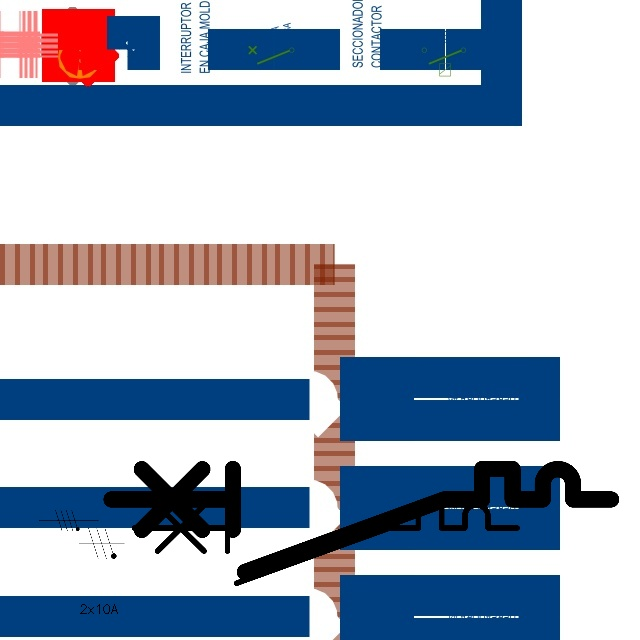interruptor_termomagnetico: (98, 456, 624, 584), (124, 495, 527, 593)
